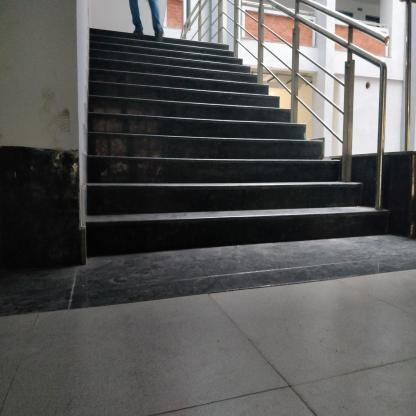stairs: (95, 116, 305, 274)
